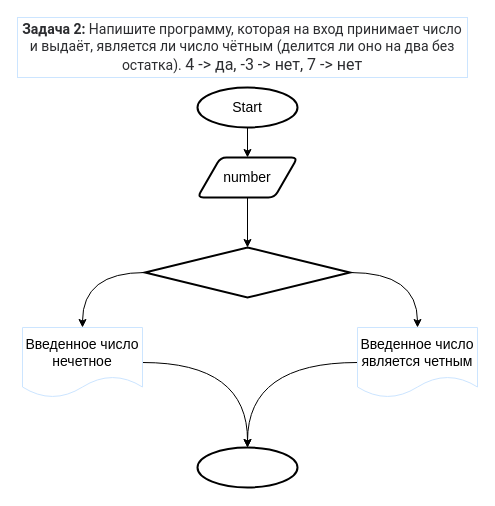
The diagram is 495 pixels wide and 506 high, and some of its shapes have lost their labels. Here are the shapes that lost their labels. From the top down, the centre of each, then its label:
At (x=247, y=272): "number % 2 == 0".
At (x=247, y=467): "End".
